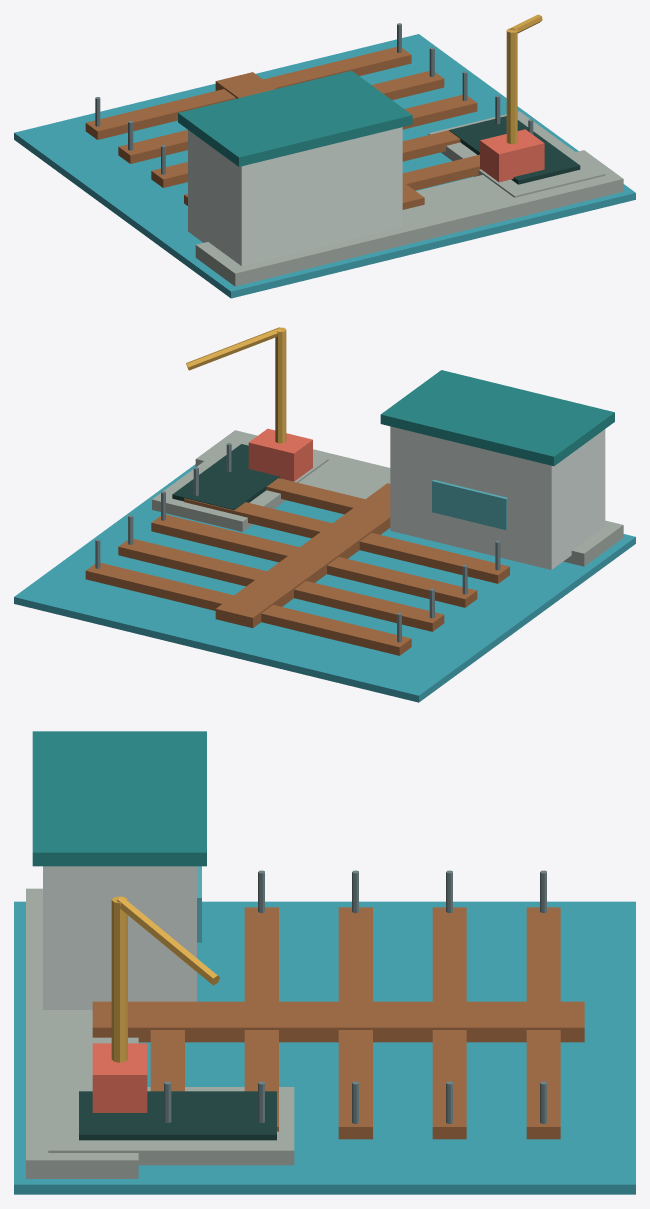
Rendered from marina_lv2.glb.
3 views of the same model, one above another, from view 1: azimuth 30°, elevation 25°; view 2: azimuth 150°, elevation 25°; view 3: azimuth 270°, elevation 25° (orthographic). The views are drawn at different scales.
Visible parts, largest first — view 1: rough, glossy, metallic; view 2: rough, glossy, metallic; view 3: rough, glossy, metallic.
Part boxes in pixels (<box>): rough: <box>85,14,623,286</box>; glossy: <box>14,34,635,298</box>; metallic: <box>95,23,533,174</box>; rough: <box>85,327,623,655</box>; glossy: <box>14,464,635,702</box>; metallic: <box>95,443,500,642</box>; rough: <box>26,731,584,1178</box>; glossy: <box>14,866,635,1194</box>; metallic: <box>164,870,546,1123</box>.
Size of the model in its own units: 9.8 by 3.83 by 9.1.
